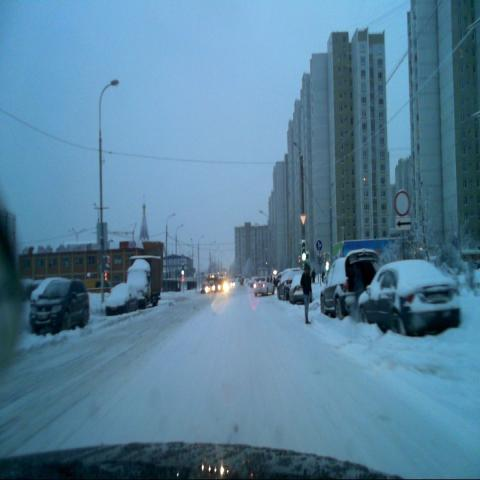3_2: (394, 189, 410, 214)
8_3_2: (394, 217, 412, 233)
